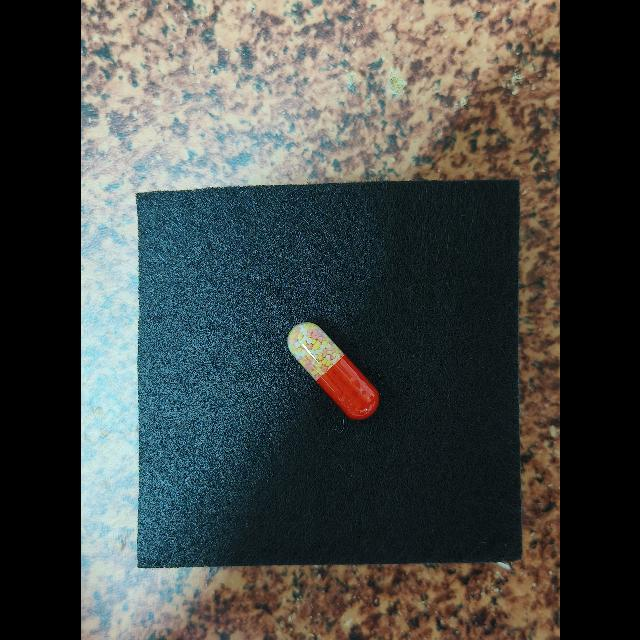Intact Capsule: (287, 322, 379, 419)
